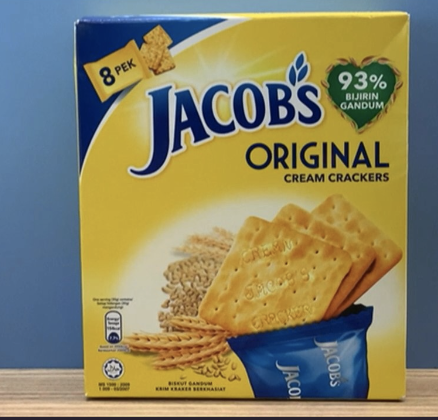crackers_200g-299g: (89, 25, 403, 396)
